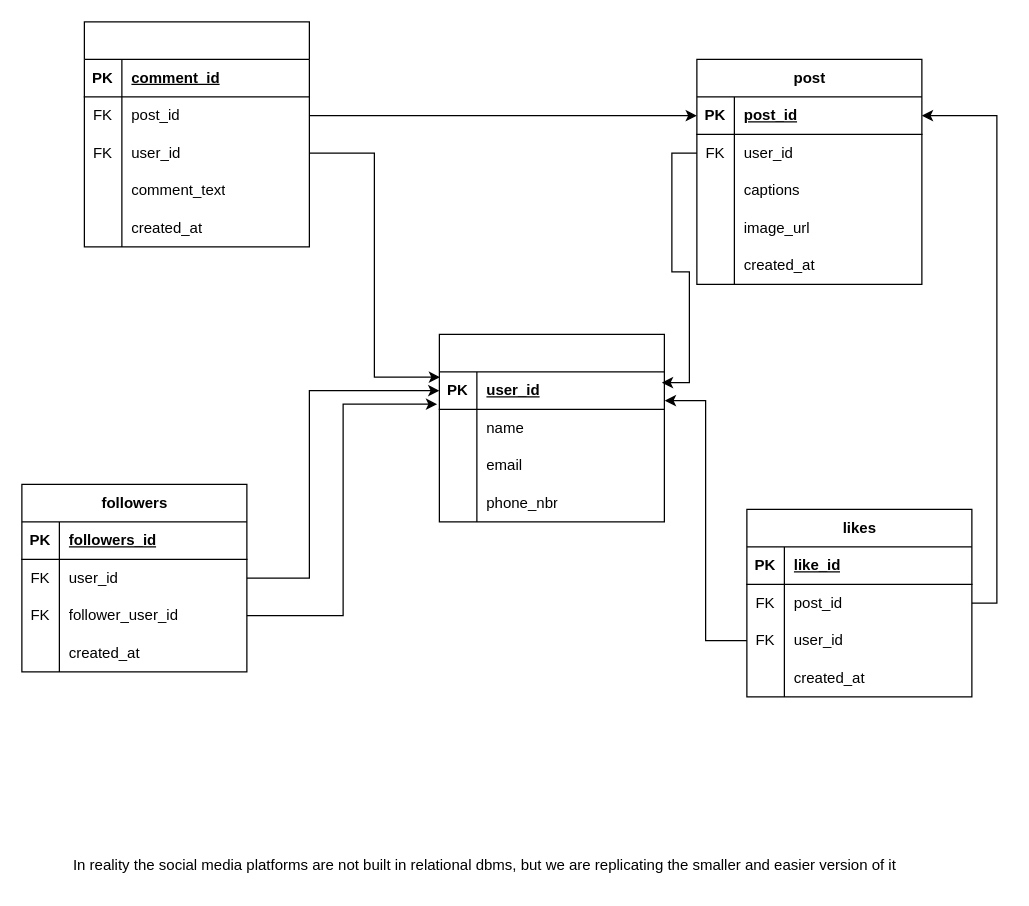
Image size: 1029x906. Some labels were removed from this diagram. Here are the shapes that lost their labels. From the top down, the box of each, then its label:
(83, 21, 309, 247): comments
(438, 333, 664, 522): users
